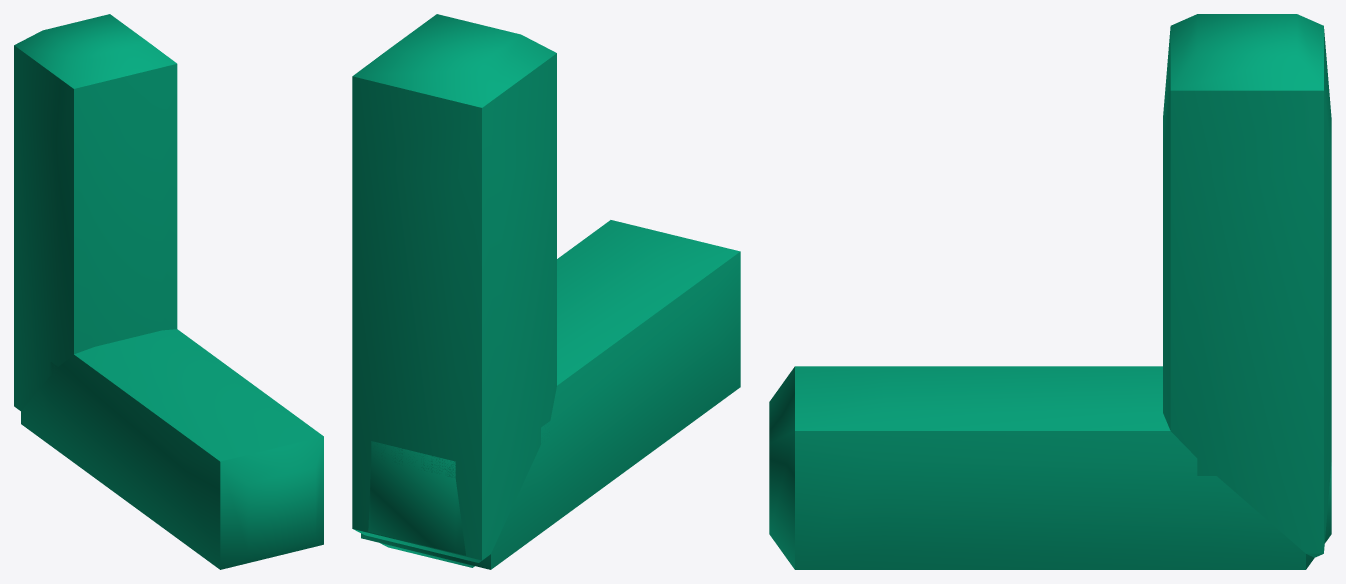
The model's file is PowerupTopSpeed.glb.
3 views of the same model, side by side, from view 1: azimuth 30°, elevation 25°; view 2: azimuth 150°, elevation 25°; view 3: azimuth 270°, elevation 25° (orthographic). The views are drawn at different scales.
Parts seen in each view (by area): view 1: mergedBlocks(Clone); view 2: mergedBlocks(Clone); view 3: mergedBlocks(Clone).
Part boxes in pixels (x1,y1,x2,y2): mergedBlocks(Clone): [14, 14, 323, 569]; mergedBlocks(Clone): [352, 14, 740, 569]; mergedBlocks(Clone): [769, 14, 1331, 569].
Bounding box in the file's own units: 0.33 × 1.1 × 1.1.
